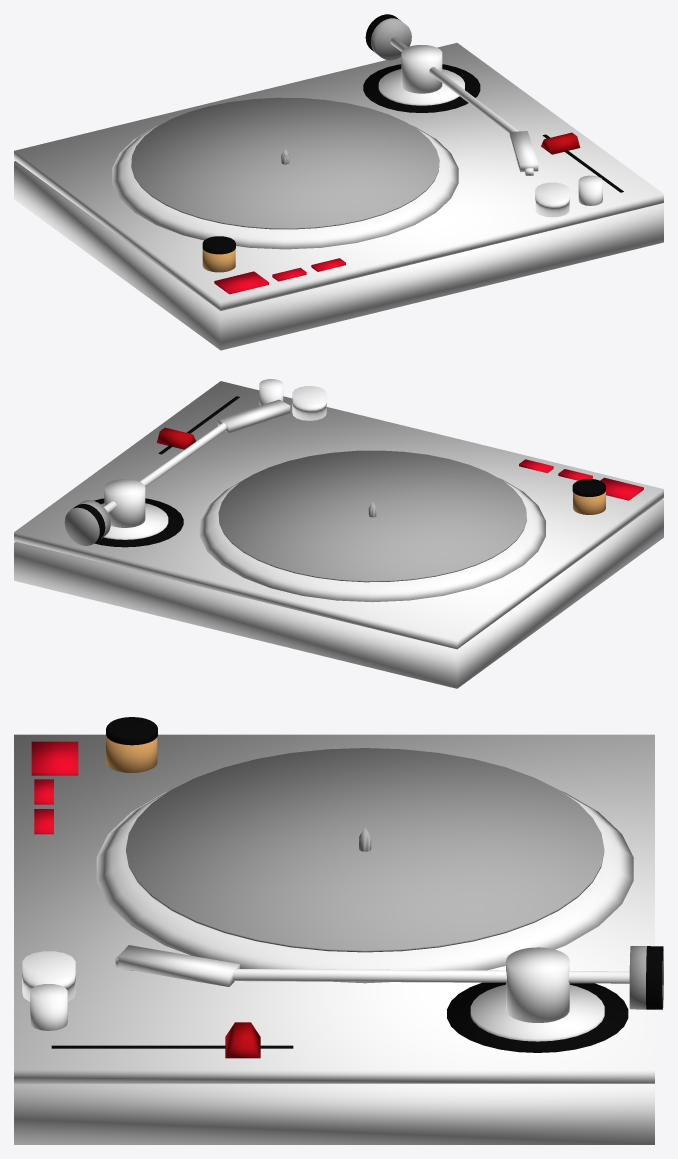
File: basic-turntable.gltf
The picture shows the model from 3 angles, top to bottom: view 1: azimuth 30°, elevation 25°; view 2: azimuth 150°, elevation 25°; view 3: azimuth 270°, elevation 25°; orthographic projection. The views are drawn at different scales.
Parts seen in each view (by area): view 1: Box02, Cylinder03, Box01, Cylinder01, Cylinder07, arm_origin, Cylinder08, Cylinder12, Cylinder05, Cylinder10, Box09, Box05 (+4 smaller); view 2: Box02, Cylinder03, Box01, Cylinder01, arm_origin, Cylinder12, Cylinder07, Box09, Cylinder08, Cylinder05, Cylinder10, Cylinder02 (+4 smaller); view 3: Box02, Cylinder03, Box01, Cylinder01, arm_origin, Cylinder07, Cylinder10, Cylinder08, Box09, Cylinder12, Cylinder05, Box05 (+5 smaller).
Part boxes in pixels (x1,y1,x2,y2): Box02: (14,43,663,310); Cylinder03: (131,97,439,229); Box01: (14,161,663,350); Cylinder01: (112,125,458,249); Cylinder07: (363,64,480,112); arm_origin: (401,45,442,93); Cylinder08: (378,69,464,105); Cylinder12: (365,14,411,60); Cylinder05: (535,182,569,217); Cylinder10: (390,37,518,133); Box09: (509,131,538,172); Box05: (214,271,268,294); Box02: (14,381,663,649); Cylinder03: (218,450,526,582); Box01: (14,499,663,688); Cylinder01: (199,477,545,602); arm_origin: (104,479,145,527); Cylinder12: (64,500,110,545); Cylinder07: (94,498,183,547); Box09: (218,399,290,433); Cylinder08: (101,503,168,539); Cylinder05: (292,386,326,420); Cylinder10: (104,422,226,513); Cylinder02: (573,491,605,514); Box02: (14,734,654,1083); Cylinder03: (126,748,604,952); Box01: (14,1083,654,1144); Cylinder01: (96,790,633,983); arm_origin: (506,947,569,1022); Cylinder07: (447,982,628,1052); Cylinder10: (232,969,629,983); Cylinder08: (470,984,604,1041); Box09: (118,945,239,986); Cylinder12: (629,946,663,1009); Cylinder05: (22,951,75,1001); Box05: (31,741,78,775).
Size of the model in its own units: 0.3542 by 0.07 by 0.2901.
